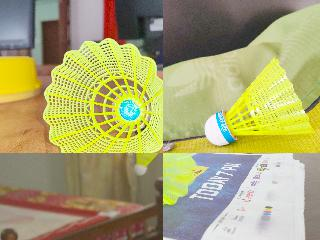shuttlecock: (43, 39, 162, 152), (202, 56, 314, 144), (163, 153, 194, 209), (134, 153, 162, 176)
